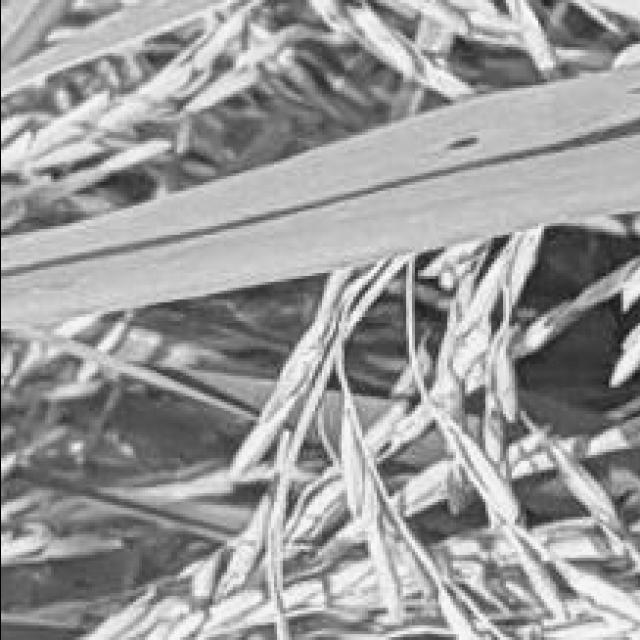Brown_Spot: (432, 120, 482, 158)
